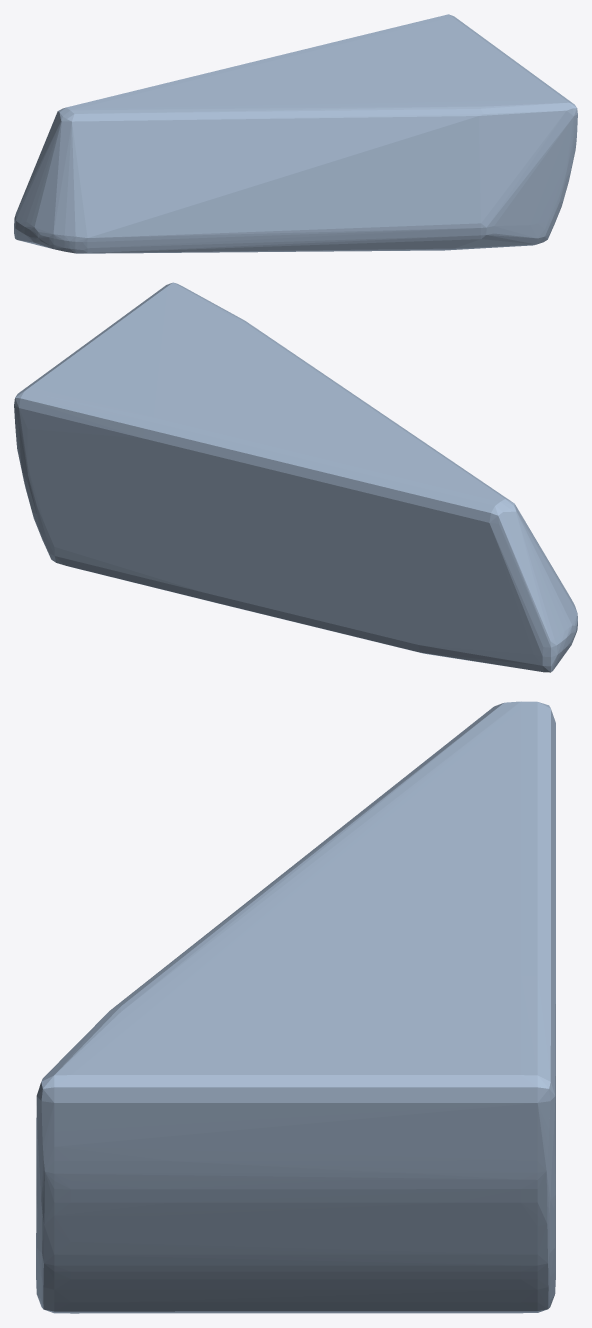
The model's file is left_shoulder_roll_link_part_6.obj.
3 views of the same model, one above another, from view 1: azimuth 30°, elevation 25°; view 2: azimuth 150°, elevation 25°; view 3: azimuth 270°, elevation 25° (orthographic). The views are drawn at different scales.
Size of the model in its own units: 0.088 by 0.0257 by 0.045.
